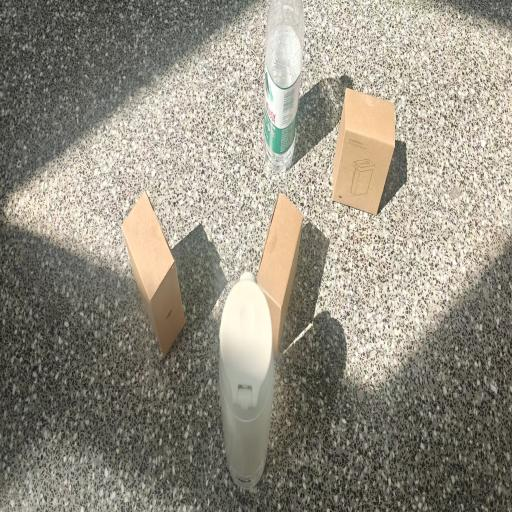bottle: (219, 272, 274, 488), (263, 0, 305, 172)
box: (122, 191, 185, 357), (332, 88, 398, 215), (257, 194, 303, 356)
